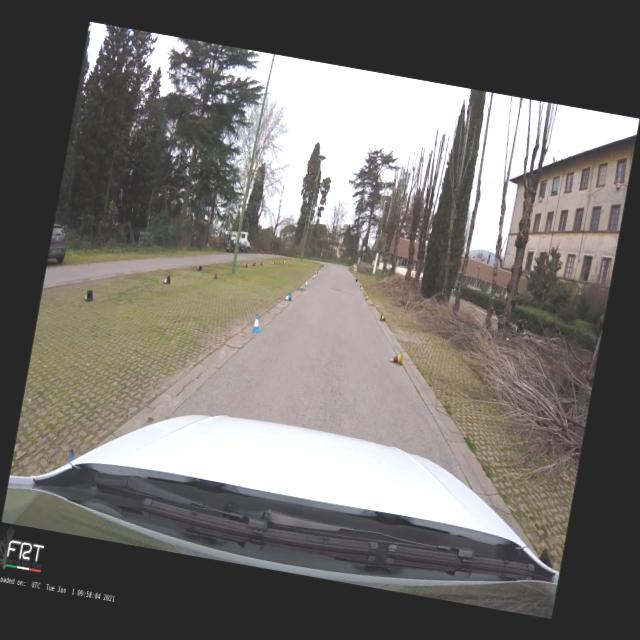blue_cone: (250, 314, 262, 334), (284, 292, 292, 301), (304, 280, 308, 288), (312, 272, 315, 278), (314, 270, 318, 274)
orange_cone: (83, 289, 94, 302)
unknown_cone: (162, 274, 171, 284), (212, 268, 218, 280), (196, 265, 202, 271), (252, 261, 256, 266), (260, 261, 264, 265), (245, 264, 248, 268), (355, 278, 357, 282)
yellow_cone: (388, 350, 404, 366), (378, 312, 388, 322), (364, 295, 368, 301), (358, 284, 362, 288)
